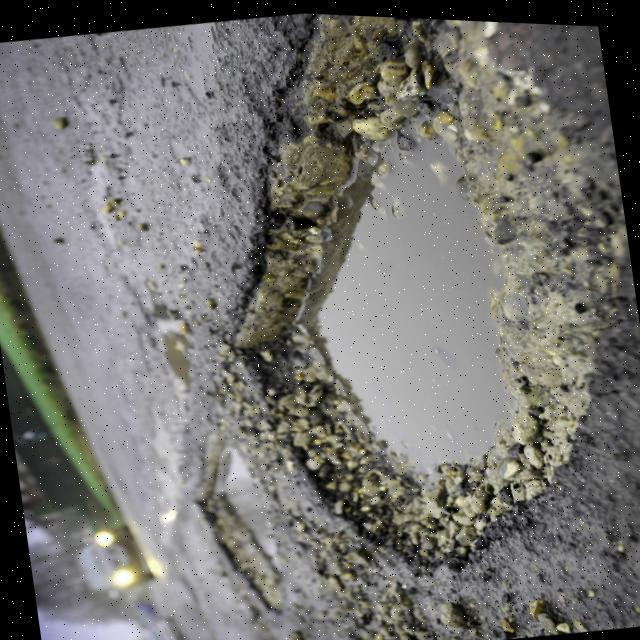pothole: (176, 6, 628, 602), (182, 430, 292, 634)
